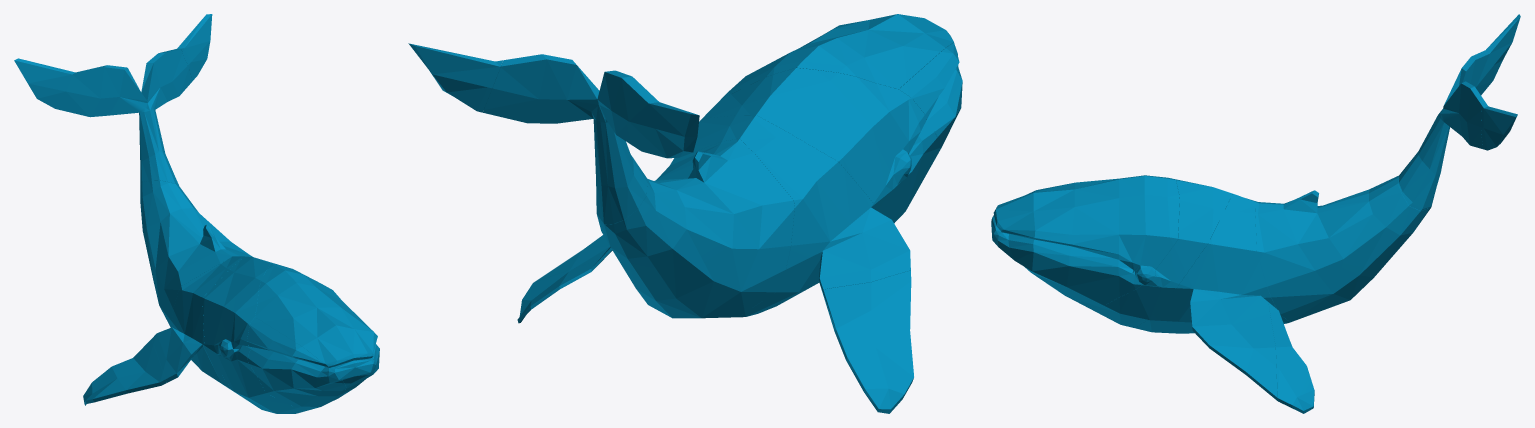
3 renders of one model, left to right at view 1: azimuth 30°, elevation 25°; view 2: azimuth 150°, elevation 25°; view 3: azimuth 270°, elevation 25°, orthographic. The views are drawn at different scales.
Visible parts, largest first — view 1: Whale_cell, Whale_cell.003, Whale_cell.005, Whale_cell.001, Whale_cell.002, Whale_cell.006, Whale_cell.004, Whale_cell.007; view 2: Whale_cell.005, Whale_cell.006, Whale_cell.001, Whale_cell, Whale_cell.004, Whale_cell.003, Whale_cell.002, Whale_cell.007, Whale_cell.008; view 3: Whale_cell.003, Whale_cell.005, Whale_cell.006, Whale_cell, Whale_cell.001, Whale_cell.008, Whale_cell.007.
Part boxes in pixels (x1,y1,x2,y2): Whale_cell: (14, 49, 192, 186); Whale_cell.003: (255, 263, 379, 394); Whale_cell.005: (140, 180, 252, 327); Whale_cell.001: (202, 256, 314, 413); Whale_cell.002: (247, 317, 345, 408); Whale_cell.006: (152, 256, 267, 411); Whale_cell.004: (83, 339, 166, 405); Whale_cell.007: (177, 14, 212, 80); Whale_cell.005: (597, 138, 794, 318); Whale_cell.006: (534, 115, 910, 317); Whale_cell.001: (702, 68, 937, 223); Whale_cell: (483, 54, 699, 224); Whale_cell.004: (822, 270, 913, 413); Whale_cell.003: (722, 14, 953, 97); Whale_cell.002: (899, 42, 962, 166); Whale_cell.007: (408, 43, 502, 112); Whale_cell.008: (517, 247, 611, 323); Whale_cell.003: (991, 175, 1179, 305); Whale_cell.005: (1255, 171, 1432, 321); Whale_cell.006: (1135, 194, 1290, 401); Whale_cell: (1398, 14, 1520, 210); Whale_cell.001: (1079, 176, 1232, 327); Whale_cell.008: (1268, 302, 1314, 413); Whale_cell.007: (1481, 105, 1517, 150).
Size of the model in its own units: 5.11 by 5.05 by 8.51.
